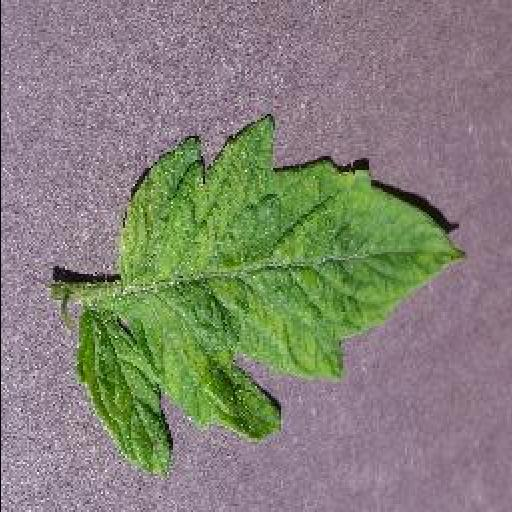Mosaic Virus: (75, 112, 465, 472)
